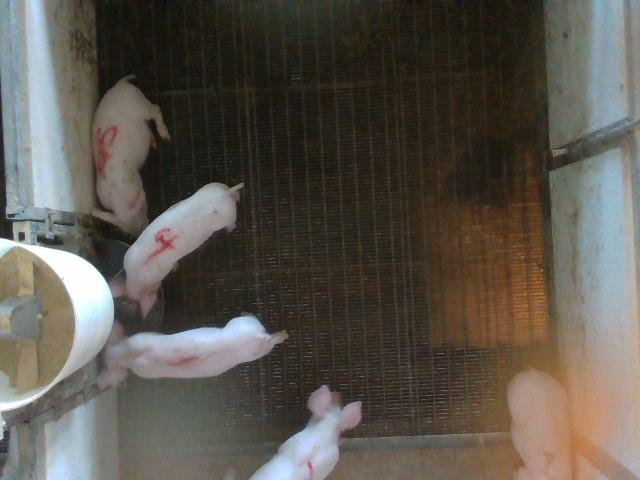pig-1: (98, 315, 288, 388)
pig-4: (109, 182, 242, 317)
pig-5: (92, 75, 171, 236)
